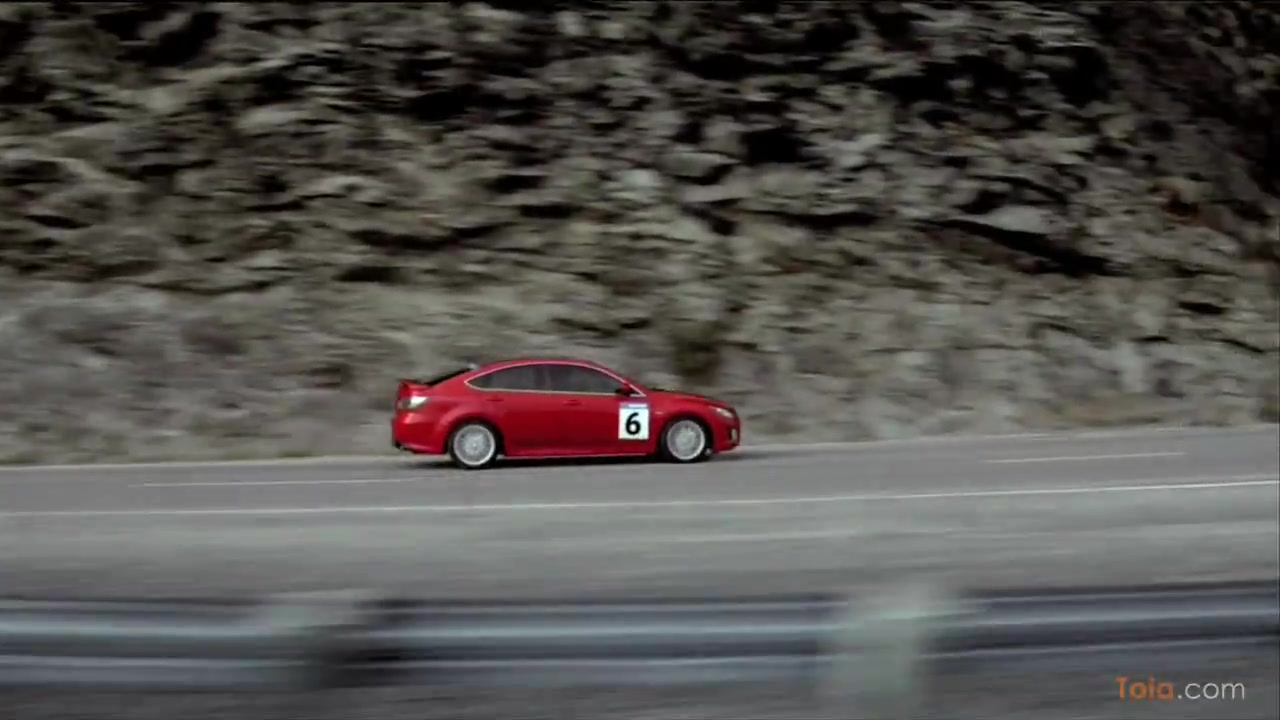car: (391, 350, 746, 473)
